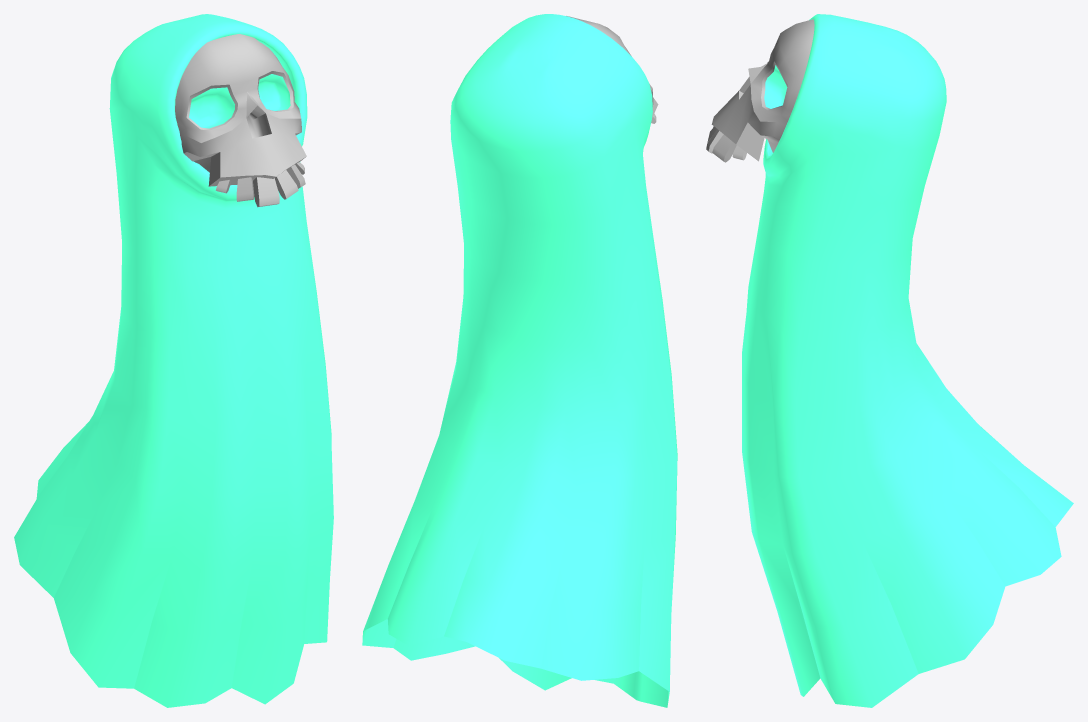
The model's file is Ghosty_Boi.fbx.
3 renders of one model, left to right at view 1: azimuth 30°, elevation 25°; view 2: azimuth 150°, elevation 25°; view 3: azimuth 270°, elevation 25°, orthographic. The views are drawn at different scales.
Visible parts, largest first — view 1: Ghosty_Boi; view 2: Ghosty_Boi; view 3: Ghosty_Boi.
Boxes of the visible parts, <box> form: Ghosty_Boi: <box>14,14,333,707</box>; Ghosty_Boi: <box>362,14,677,707</box>; Ghosty_Boi: <box>706,14,1073,707</box>.
Bounding box in the file's own units: 74.46 × 190 × 96.2.
